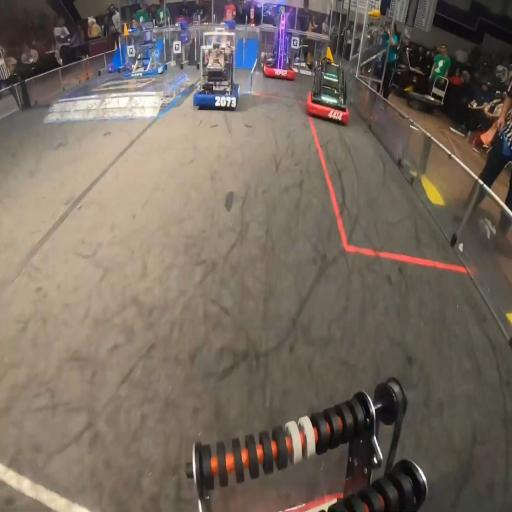robot: (193, 40, 241, 109), (306, 57, 350, 125), (263, 11, 297, 81), (124, 28, 166, 78)
